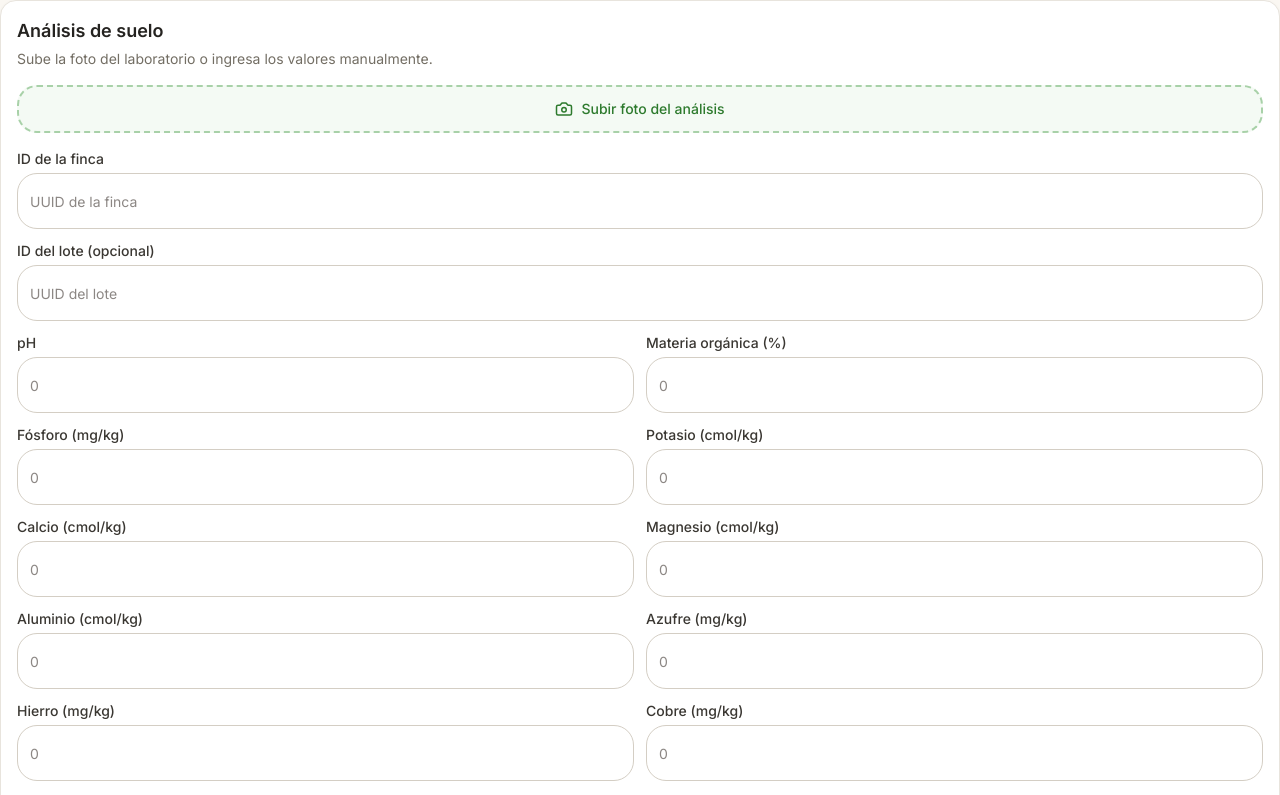
SoilAnalysisForm › muestra error si no se ingresa ningún valor
Type "bbbbbbbb-0000-4000-8000-000000000001" into the field with placeholder "UUID de la finca".
click(640, 201); type("bbbbbbbb-0000-4000-8000-000000000001")  # box left=17, top=173, right=1263, bottom=229
(page scrolled)
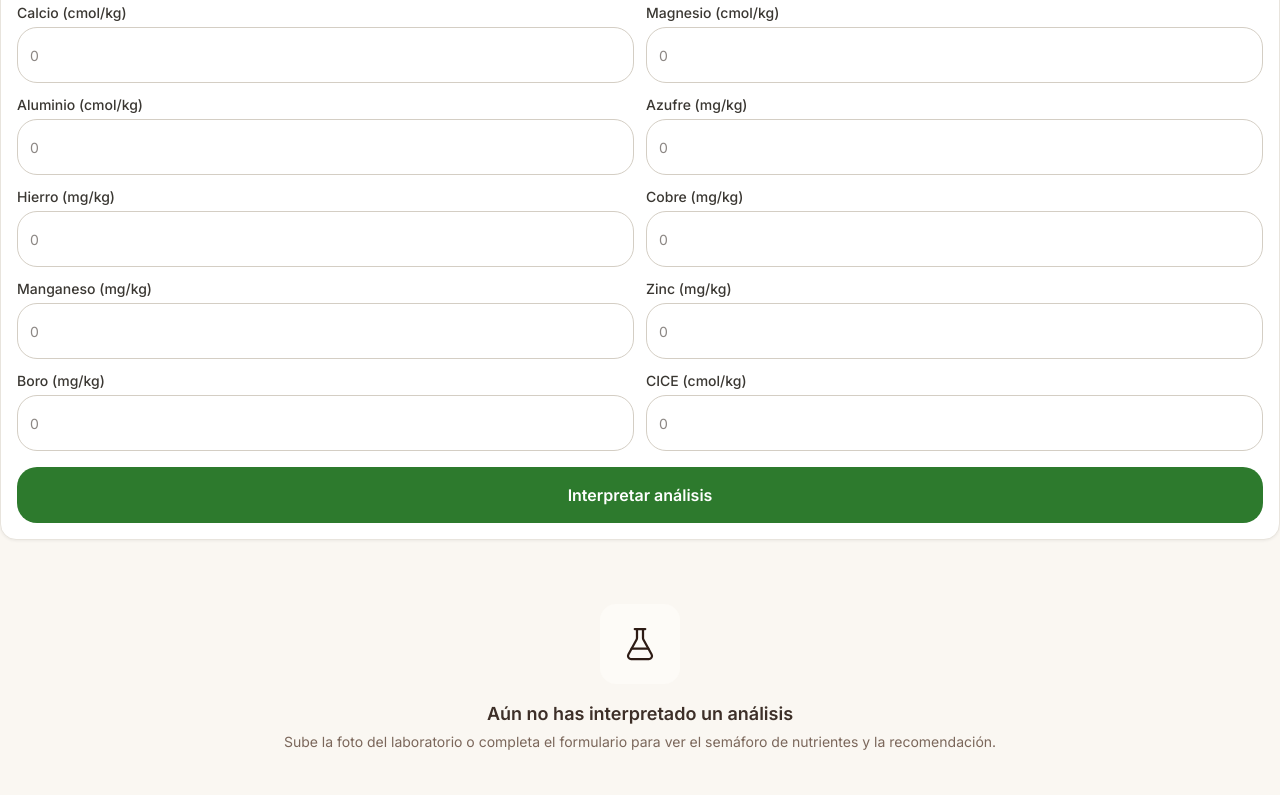
Click the button "Interpretar análisis".
click(640, 495)  # box left=17, top=467, right=1263, bottom=523
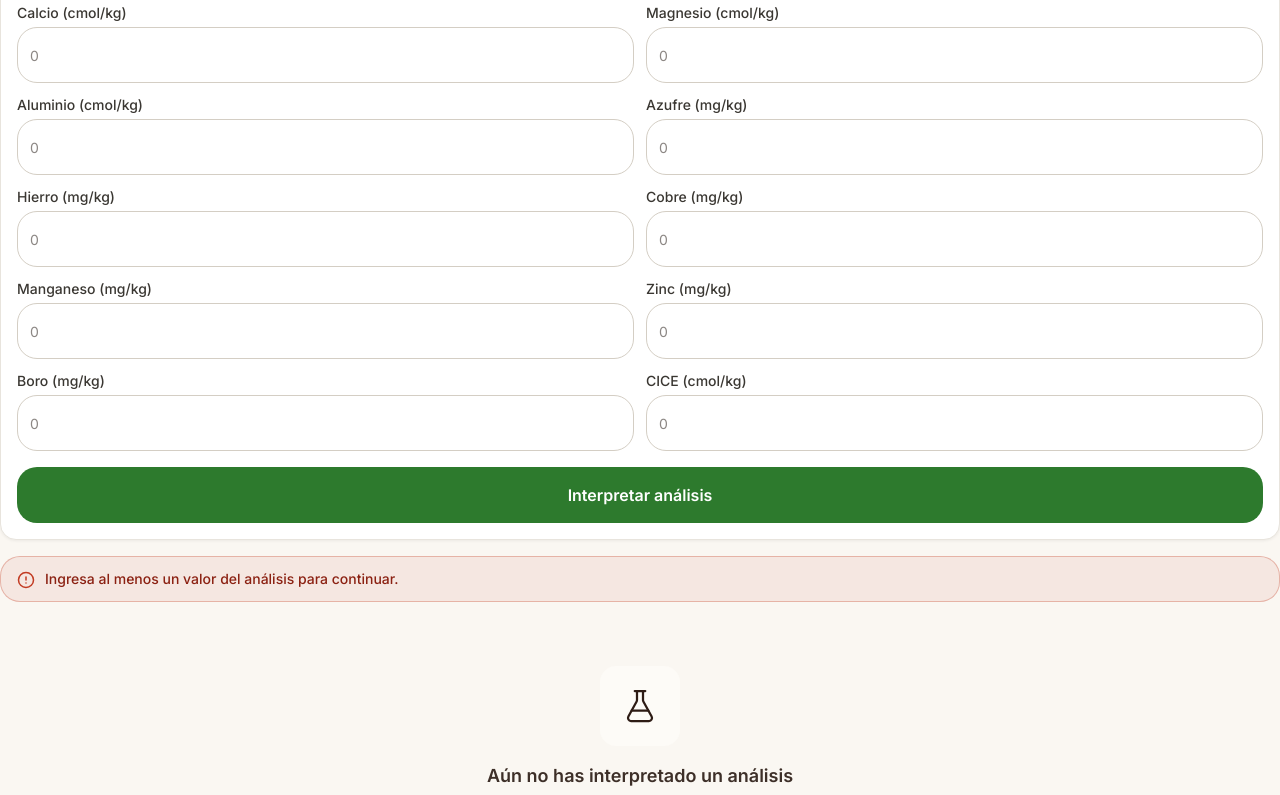
Check: the message shows "al menos un valor", box left=45, top=570, right=399, bottom=587
